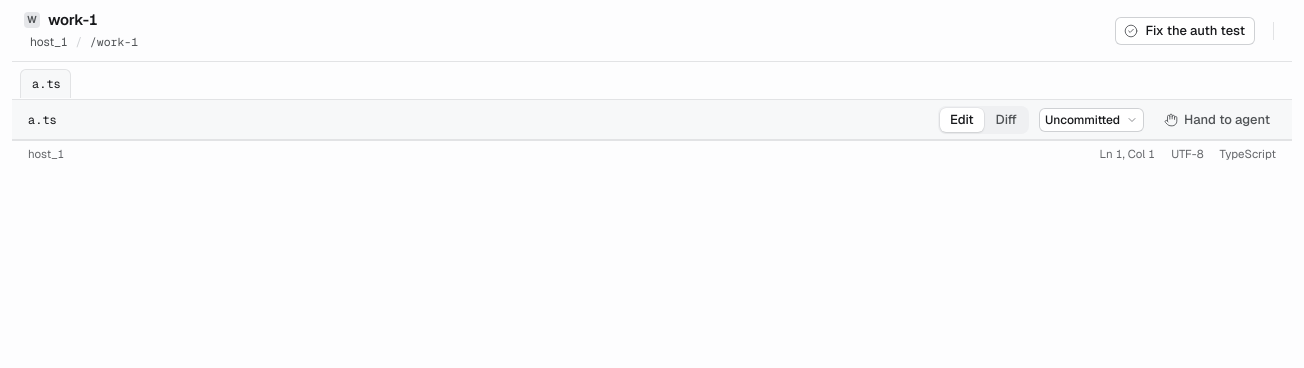
Test case: the diff pane stays on the file the person picked › keeps a file picked from the phone Turn picker instead of snapping back to the tab
Expected: the tab "a.ts" is shown, [20,69,71,99]
Click the tab "Diff" at (1006, 120), box [986,108,1027,132]
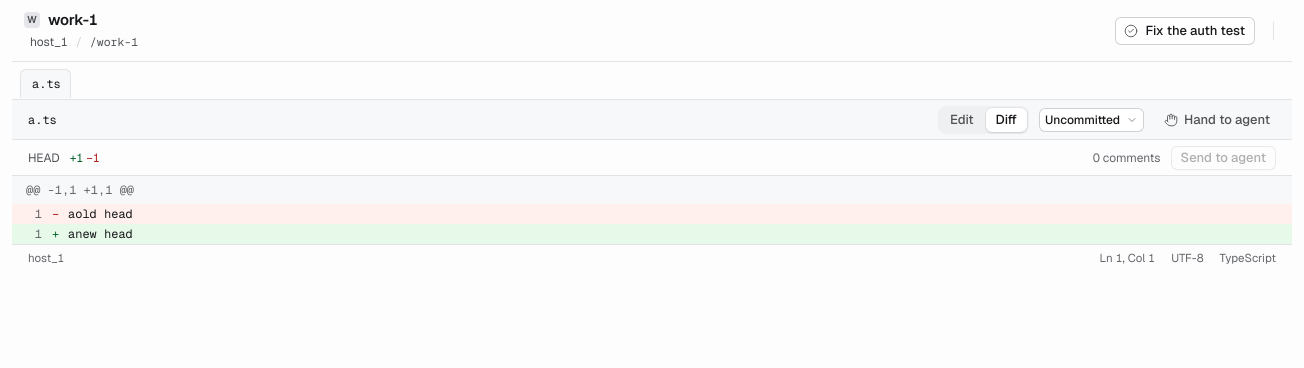
Expected: the button with aria-label "Line 1: anew" is shown, [12,224,1292,244]
Press the mouse on the button with aria-label "Diff source: Uncommitted" at (1092, 120), box [1039,108,1144,132]
Click the button with aria-label "Diff source: Uncommitted" at (1092, 120), box [1039,108,1144,132]
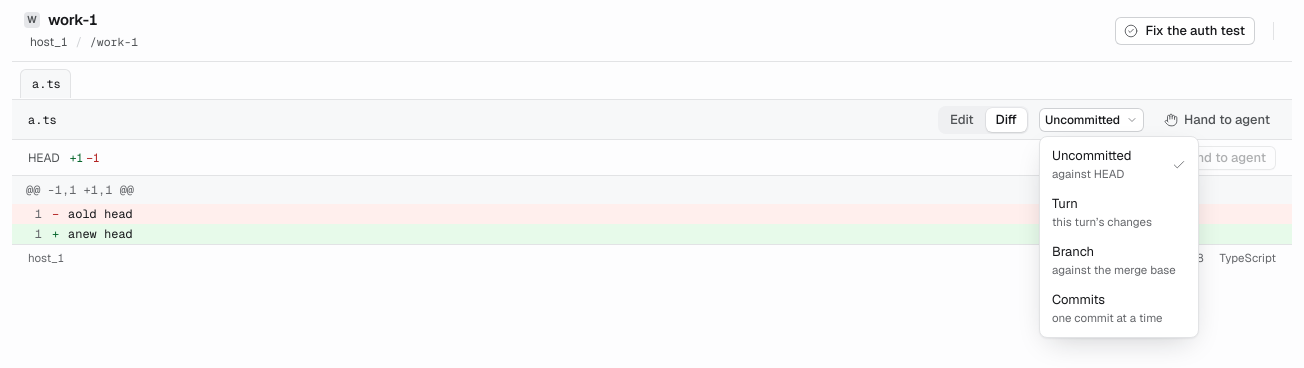
Click the menu item "Turn this turn’s changes" at (1102, 212), box [1052,195,1152,229]
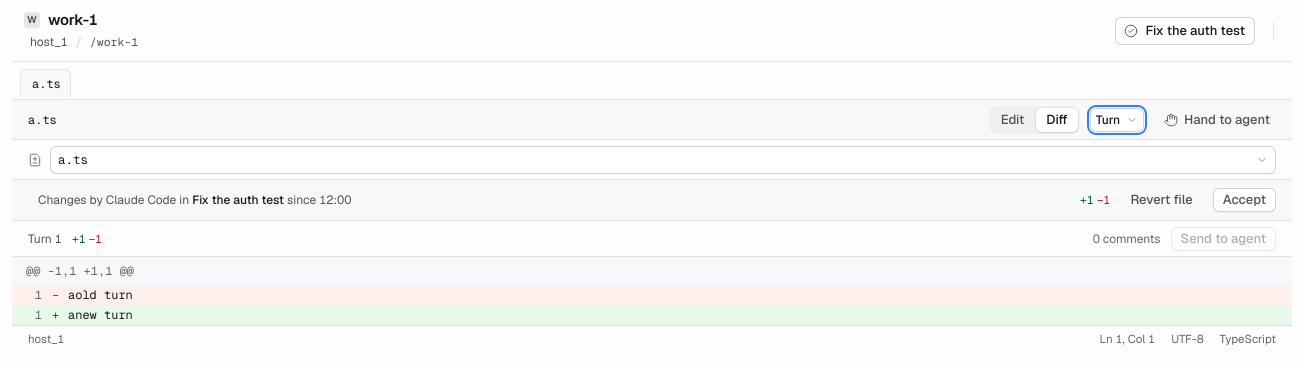
Press the mouse on the button with aria-label "File: a.ts" at (73, 159), box [50,146,1276,174]
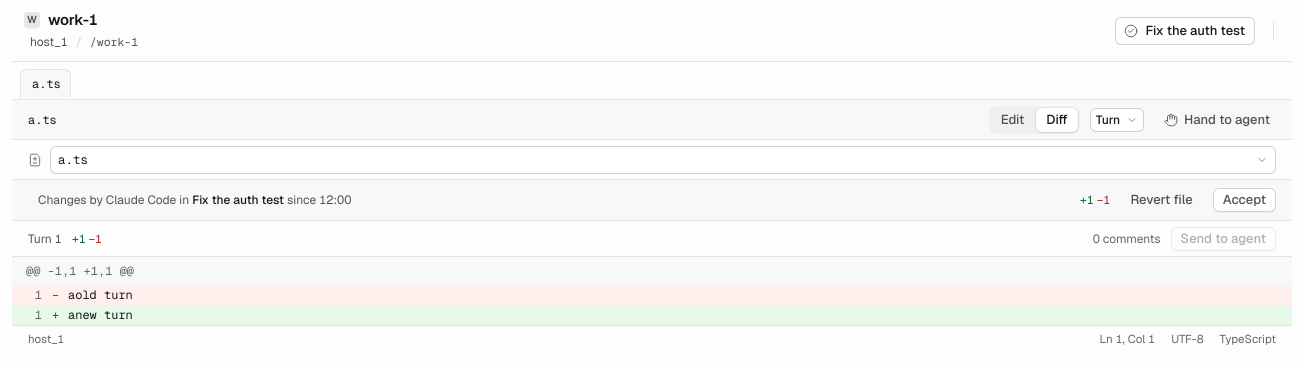
Click the button with aria-label "File: a.ts" at (73, 159), box [50,146,1276,174]
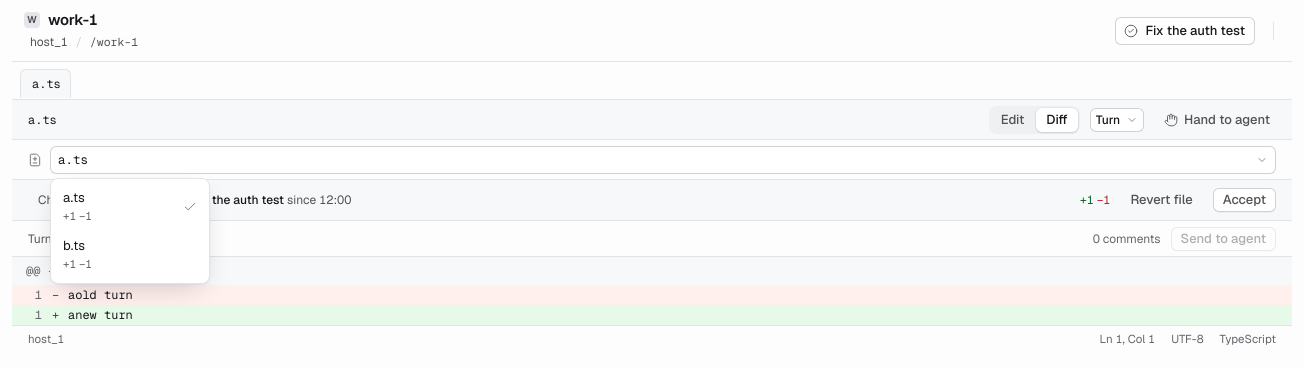
Click the menu item "b.ts +1 −1" at (78, 254), box [63,237,92,271]
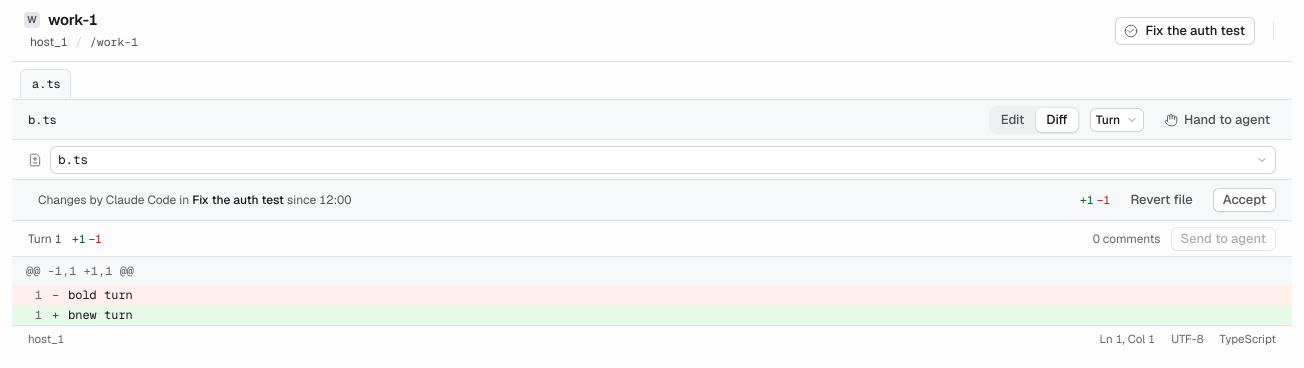
Expected: the button with aria-label "Line 1: bnew" is shown, [12,305,1292,325]
Expected: the 1st text "b.ts" is shown, [28,110,57,128]
